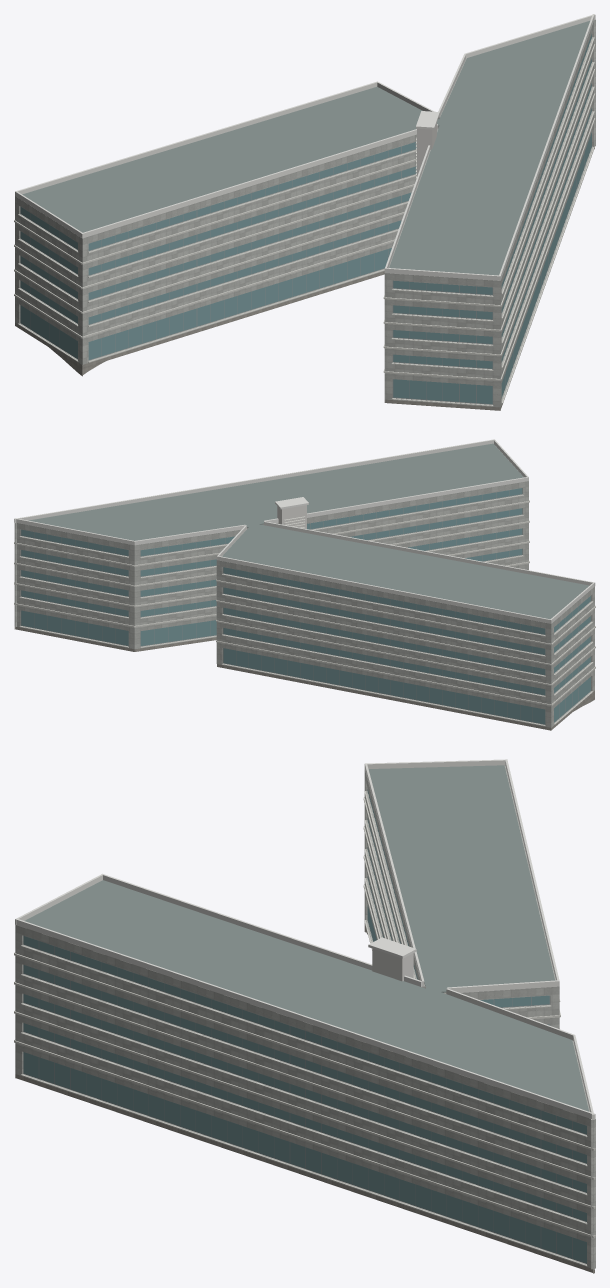
3 views of the same model, one above another, from view 1: azimuth 30°, elevation 25°; view 2: azimuth 150°, elevation 25°; view 3: azimuth 270°, elevation 25° (orthographic). The views are drawn at different scales.
Parts seen in each view (by area): view 1: elim1__wall, elim1__roof, elim1__glass, elim1__band, elim1__cap, elim1__frame, elim1__plinth, elim1__foundation, elim1__core; view 2: elim1__wall, elim1__roof, elim1__glass, elim1__band, elim1__cap, elim1__frame, elim1__plinth, elim1__foundation, elim1__core; view 3: elim1__roof, elim1__wall, elim1__glass, elim1__band, elim1__cap, elim1__frame, elim1__plinth, elim1__core, elim1__foundation.
Boxes of the visible parts, box(x1,y1,x2,y2) form: elim1__wall: box(15, 19, 595, 407); elim1__roof: box(22, 21, 589, 275); elim1__glass: box(20, 34, 591, 404); elim1__band: box(14, 37, 595, 406); elim1__cap: box(15, 14, 595, 280); elim1__frame: box(20, 38, 591, 404); elim1__plinth: box(15, 271, 502, 409); elim1__foundation: box(15, 146, 594, 410); elim1__core: box(417, 122, 436, 176); elim1__wall: box(14, 446, 594, 727); elim1__roof: box(28, 443, 589, 619); elim1__glass: box(21, 488, 590, 724); elim1__band: box(14, 495, 595, 726); elim1__cap: box(14, 439, 595, 623); elim1__frame: box(20, 488, 591, 724); elim1__plinth: box(15, 627, 594, 729); elim1__foundation: box(14, 627, 594, 730); elim1__core: box(277, 505, 306, 528); elim1__roof: box(25, 765, 588, 1111); elim1__wall: box(15, 766, 595, 1269); elim1__glass: box(23, 789, 586, 1263); elim1__band: box(14, 791, 595, 1266); elim1__cap: box(15, 759, 595, 1119); elim1__frame: box(23, 792, 586, 1263); elim1__plinth: box(16, 986, 594, 1272); elim1__core: box(372, 948, 413, 981); elim1__foundation: box(15, 919, 594, 1273).
Size of the model in its own units: 91.98 by 22.97 by 63.5.
14 materials, 4 textured.
